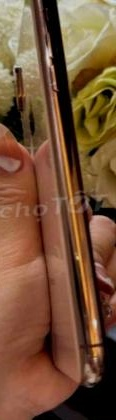scratch: (74, 351, 115, 390), (67, 244, 95, 267)
